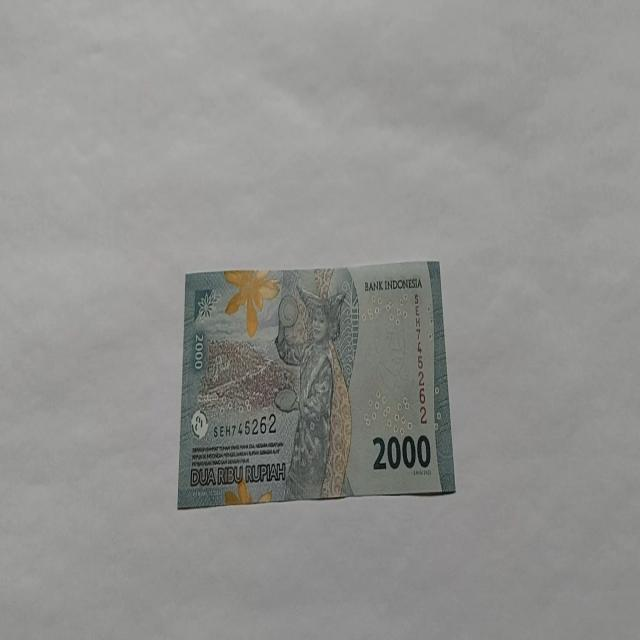dua ribu rupiah: (177, 258, 456, 508), (273, 282, 353, 500)
